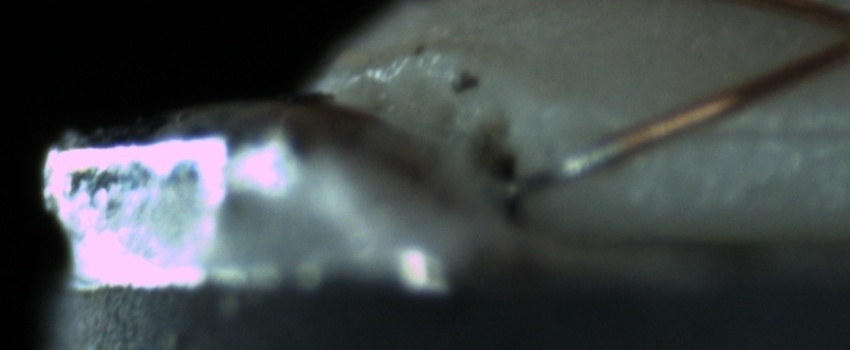DL: (677, 98, 850, 163)
TS: (493, 139, 617, 201)
